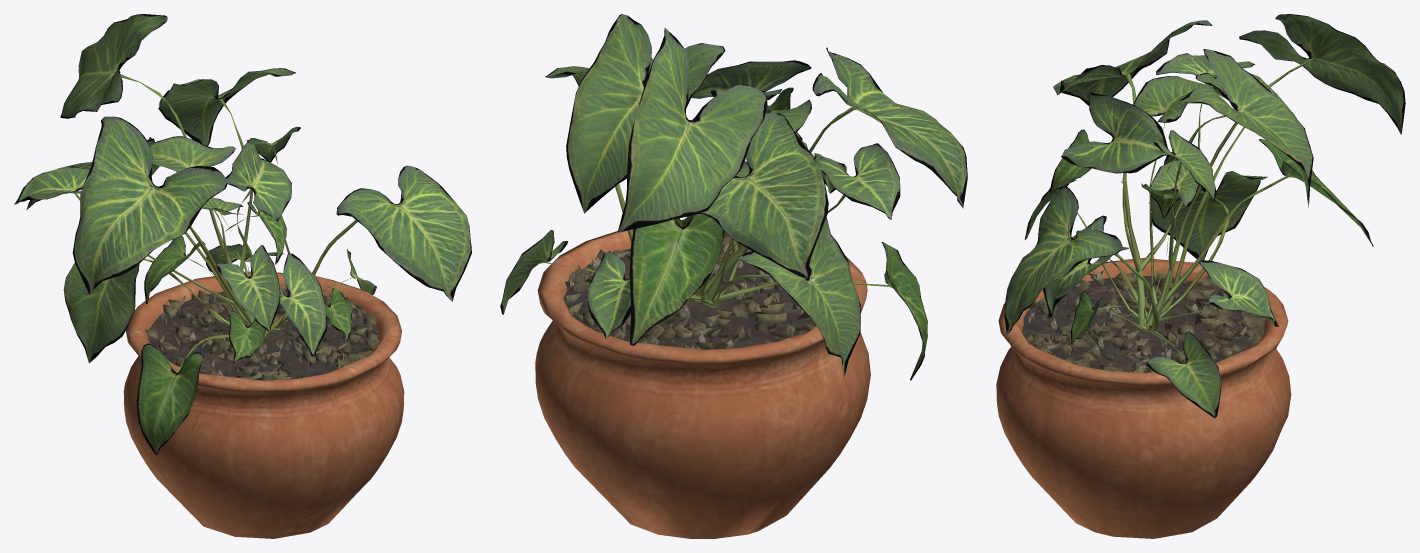
File: plant_philodendron.glb
3 views of the same model, side by side, from view 1: azimuth 30°, elevation 25°; view 2: azimuth 150°, elevation 25°; view 3: azimuth 270°, elevation 25° (orthographic). The views are drawn at different scales.
Visible parts, largest first — view 1: potted_plant_02_leaves, potted_plant_02_pot; view 2: potted_plant_02_leaves, potted_plant_02_pot; view 3: potted_plant_02_pot, potted_plant_02_leaves.
Boxes of the visible parts, x1,y1,x2,y2 form: potted_plant_02_leaves: [14, 14, 471, 454]; potted_plant_02_pot: [123, 271, 404, 538]; potted_plant_02_leaves: [500, 14, 967, 380]; potted_plant_02_pot: [535, 220, 870, 538]; potted_plant_02_pot: [996, 258, 1291, 538]; potted_plant_02_leaves: [1004, 14, 1405, 417].
Bounding box in the file's own units: 0.7009 × 0.8406 × 0.6561.
2 materials, 2 textured.
